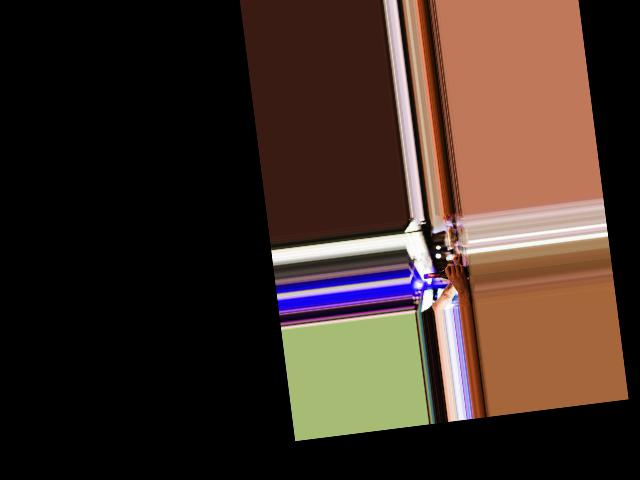beer: (423, 266, 467, 282)
